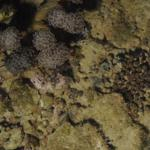dead: (2, 3, 147, 147)
